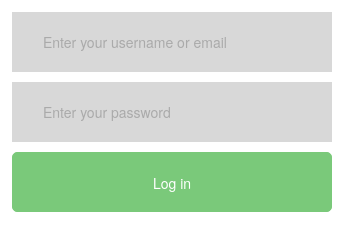
LoginForm › disables submit until the form is valid
This screenshot has width=349, height=229.
Expected: the button "Log in" is disabled, [12, 152, 332, 212]
Type "ada" into the field labelled "username or email" at (172, 42), box [12, 12, 332, 72]
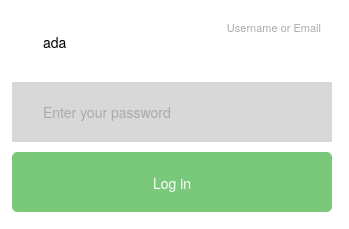
Expected: the button "Log in" is disabled, [12, 152, 332, 212]
Type "password1" into the password field labelled "password" at (172, 112), box [12, 82, 332, 142]
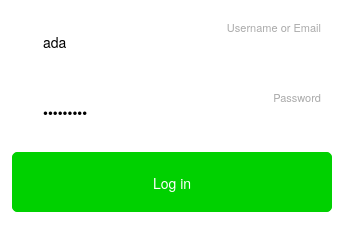
Expected: the button "Log in" is enabled, [12, 152, 332, 212]
